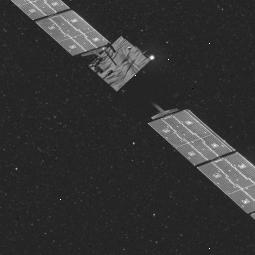smart_1: (96, 15, 184, 137)
